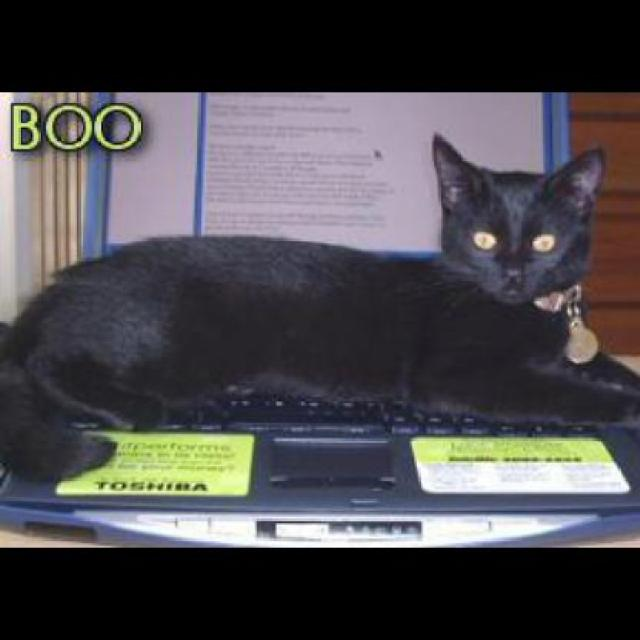unauthorized: (0, 130, 638, 484)
